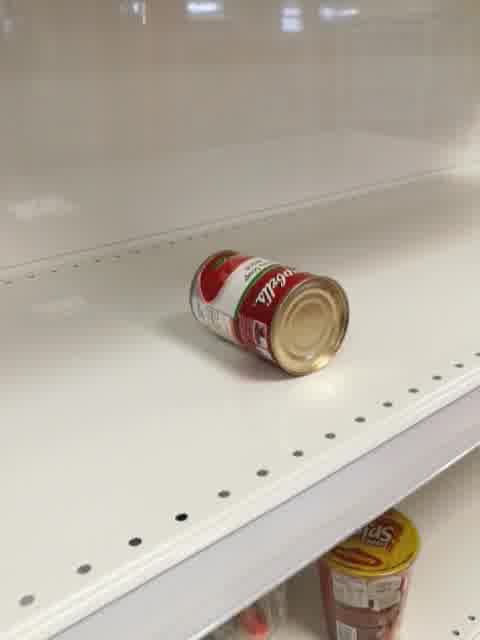tomatosoup: (185, 249, 351, 378)
